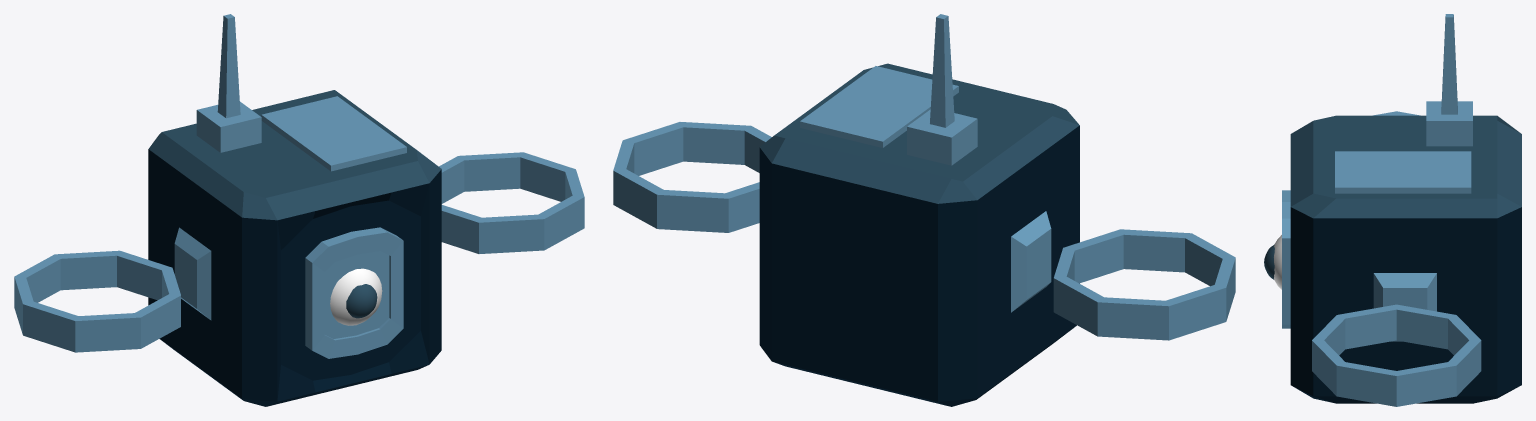
File: Drone.fbx
3 renders of one model, left to right at view 1: azimuth 30°, elevation 25°; view 2: azimuth 150°, elevation 25°; view 3: azimuth 270°, elevation 25°, orthographic. The views are drawn at different scales.
Parts seen in each view (by area): view 1: Drone; view 2: Drone; view 3: Drone.
Boxes of the visible parts, left/top/right/bottom form: Drone: left=14, top=14, right=584, bottom=406; Drone: left=613, top=14, right=1235, bottom=406; Drone: left=1264, top=14, right=1521, bottom=406.
Size of the model in its own units: 5.54 by 2.28 by 3.18.
